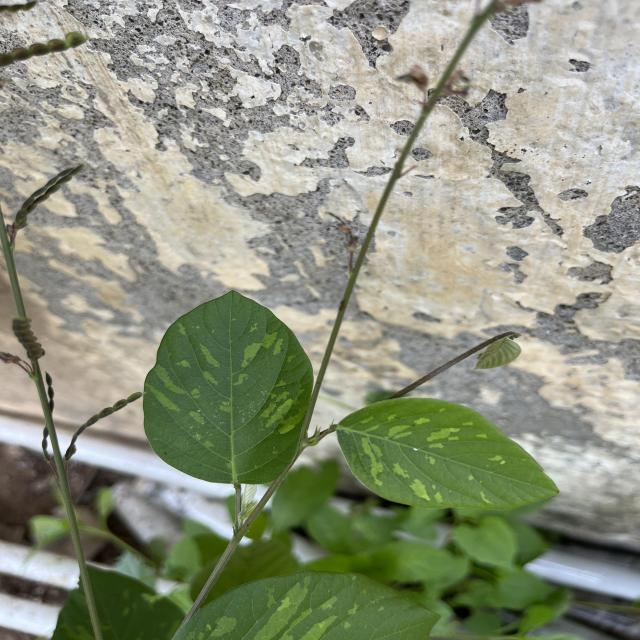Desmodium gangeticum: (138, 287, 316, 487), (332, 396, 564, 512)
